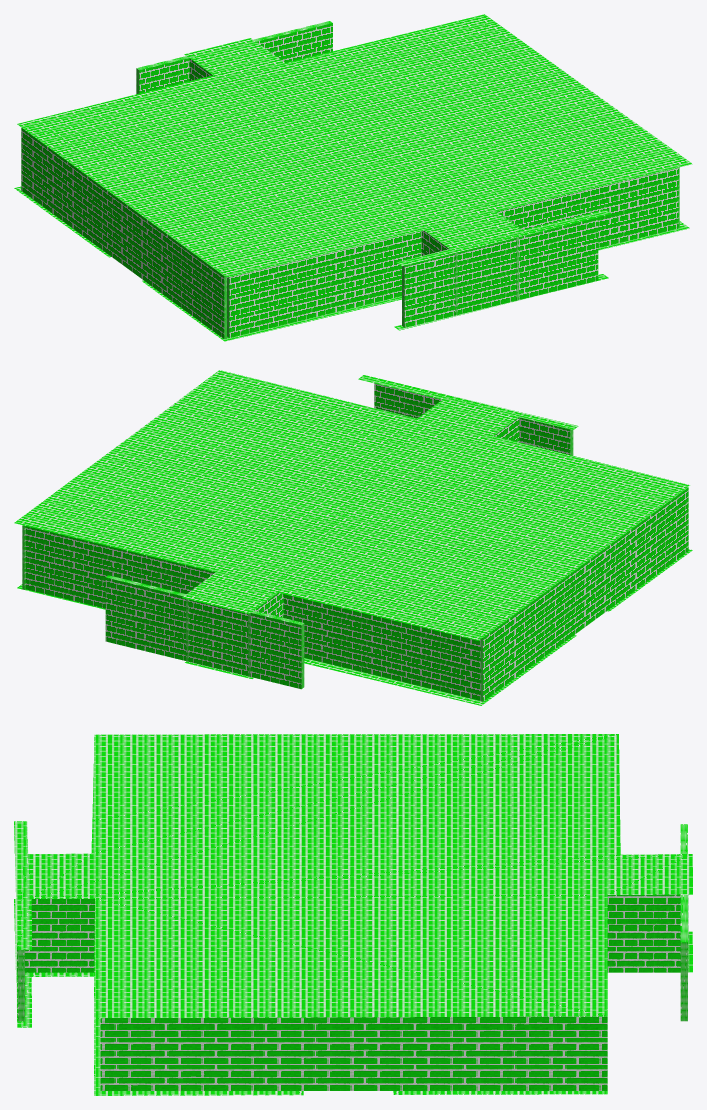
3 views of the same model, one above another, from view 1: azimuth 30°, elevation 25°; view 2: azimuth 150°, elevation 25°; view 3: azimuth 270°, elevation 25° (orthographic). The views are drawn at different scales.
Visible parts, largest first — view 1: Plane.001, Cube.002_Cube.004, Cube.010_Cube.014, Cube.005_Cube.009, Cube.004_Cube.008, Cube.011_Cube.015, Plane, Cube_Cube.002; view 2: Plane.001, Cube.002_Cube.004, Cube.011_Cube.015, Cube.007_Cube.011, Cube.006_Cube.010, Cube.010_Cube.014, Plane, Cube.008_Cube.012; view 3: Plane.001, Cube.003_Cube.007, Cube.009_Cube.013, Cube.001_Cube.003, Plane, Cube.011_Cube.015, Cube.010_Cube.014.
Part boxes in pixels (box(x1,y1,x2,y2)): Plane.001: box(17, 14, 692, 277); Cube.002_Cube.004: box(21, 127, 226, 339); Cube.010_Cube.014: box(402, 217, 598, 327); Cube.005_Cube.009: box(227, 231, 421, 337); Cube.004_Cube.008: box(497, 167, 678, 247); Cube.011_Cube.015: box(136, 21, 332, 94); Plane: box(14, 186, 689, 341); Cube_Cube.002: box(421, 230, 457, 315); Plane.001: box(14, 370, 689, 640); Cube.002_Cube.004: box(480, 487, 688, 701); Cube.011_Cube.015: box(105, 575, 304, 689); Cube.007_Cube.011: box(283, 594, 480, 700); Cube.006_Cube.010: box(25, 526, 215, 608); Cube.010_Cube.014: box(374, 383, 573, 455); Plane: box(17, 549, 692, 705); Cube.008_Cube.012: box(248, 592, 283, 676); Plane.001: box(14, 734, 692, 1018); Cube.003_Cube.007: box(100, 1016, 607, 1090); Cube.009_Cube.013: box(607, 894, 688, 972); Cube.001_Cube.003: box(17, 899, 94, 972); Plane: box(14, 899, 692, 1095); Cube.011_Cube.015: box(680, 824, 687, 1021); Cube.010_Cube.014: box(17, 950, 24, 1021).
Bounding box in the file's own units: 49.7 × 7.18 × 49.9.
